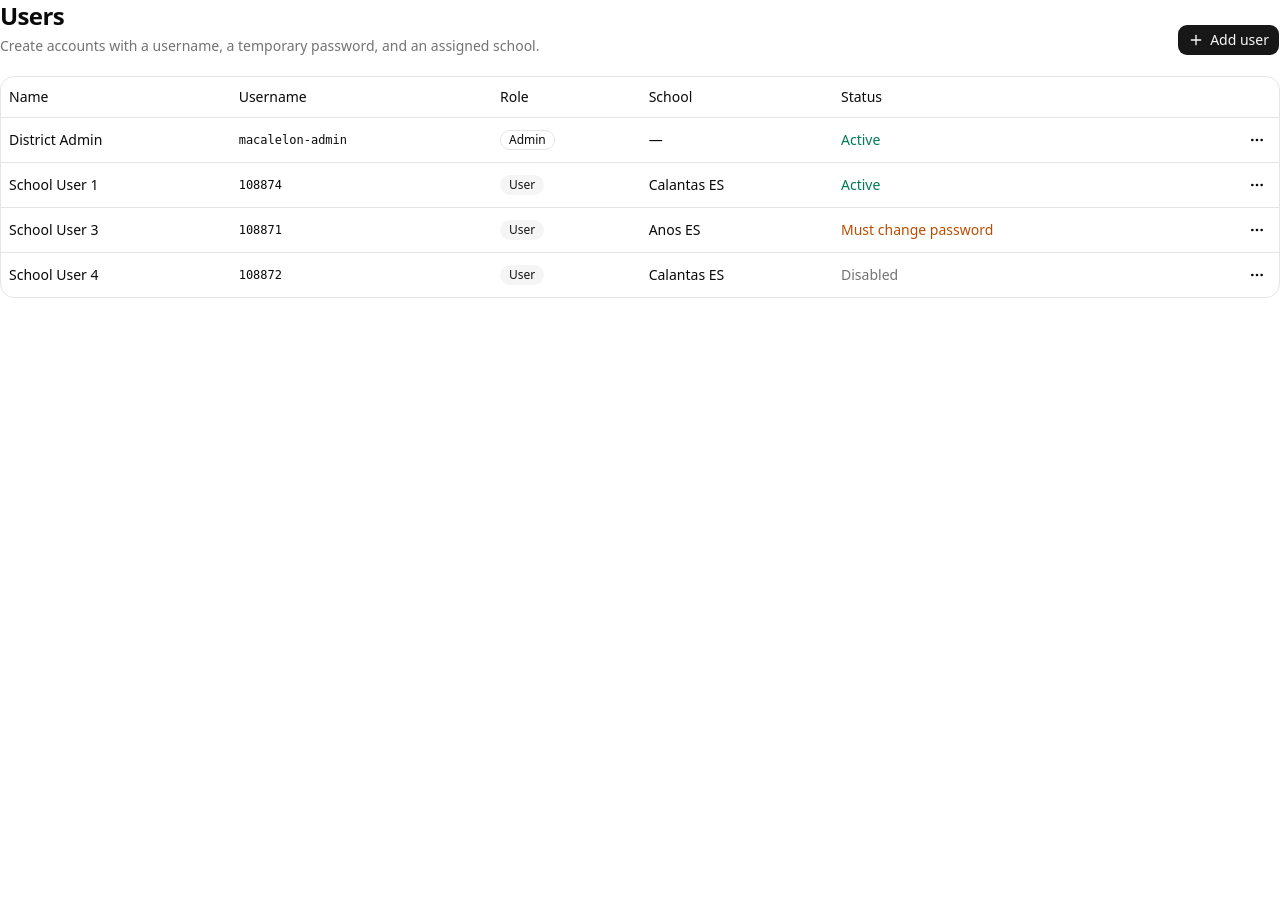
Scenario: UsersPage › resets a password after confirming and shows the new temporary password
Press the mouse on the button named "Actions for 108874" at (1257, 184), box x1=1243 y1=170 x2=1271 y2=198
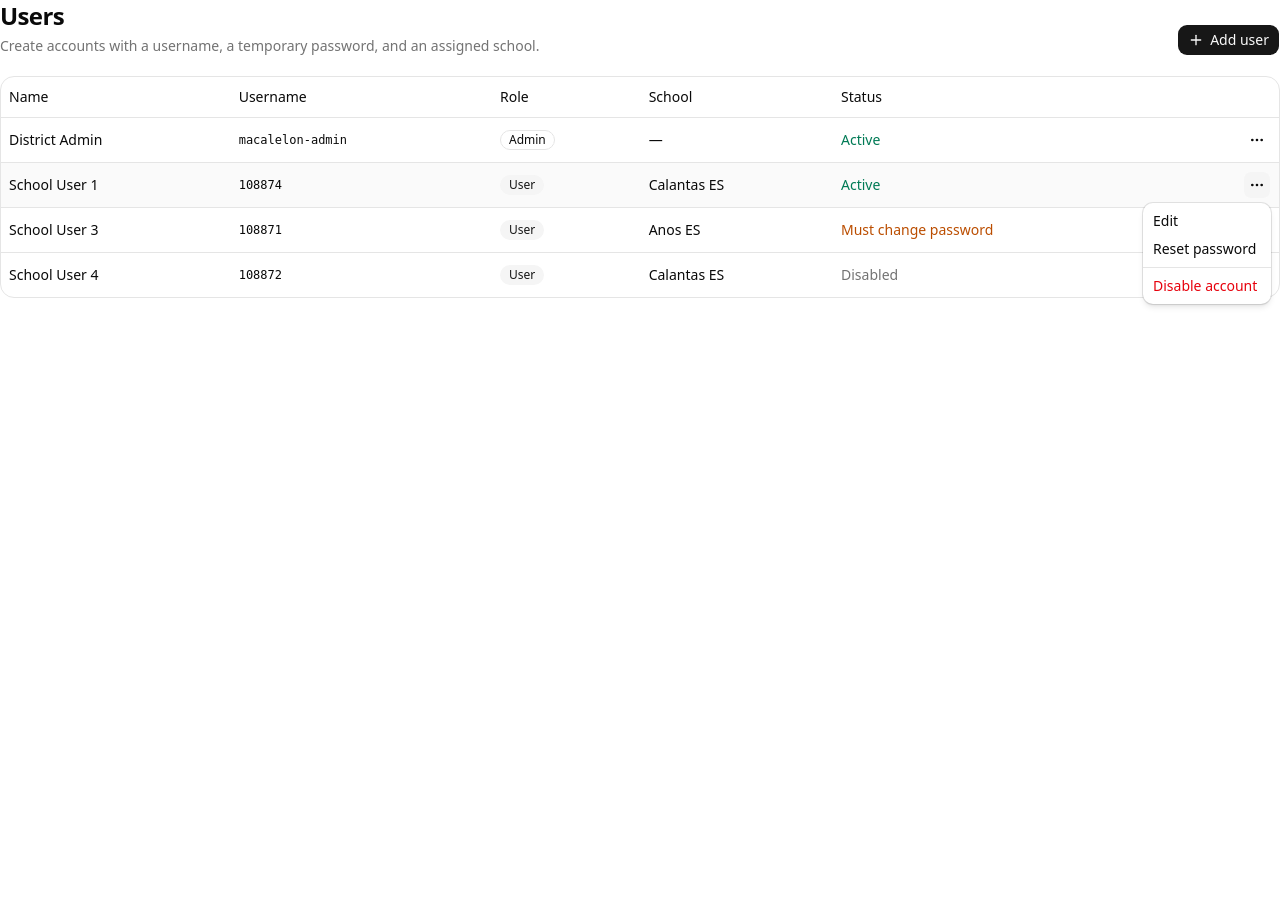
Click the menu item "Reset password" at (1207, 249), box x1=1147 y1=235 x2=1267 y2=263
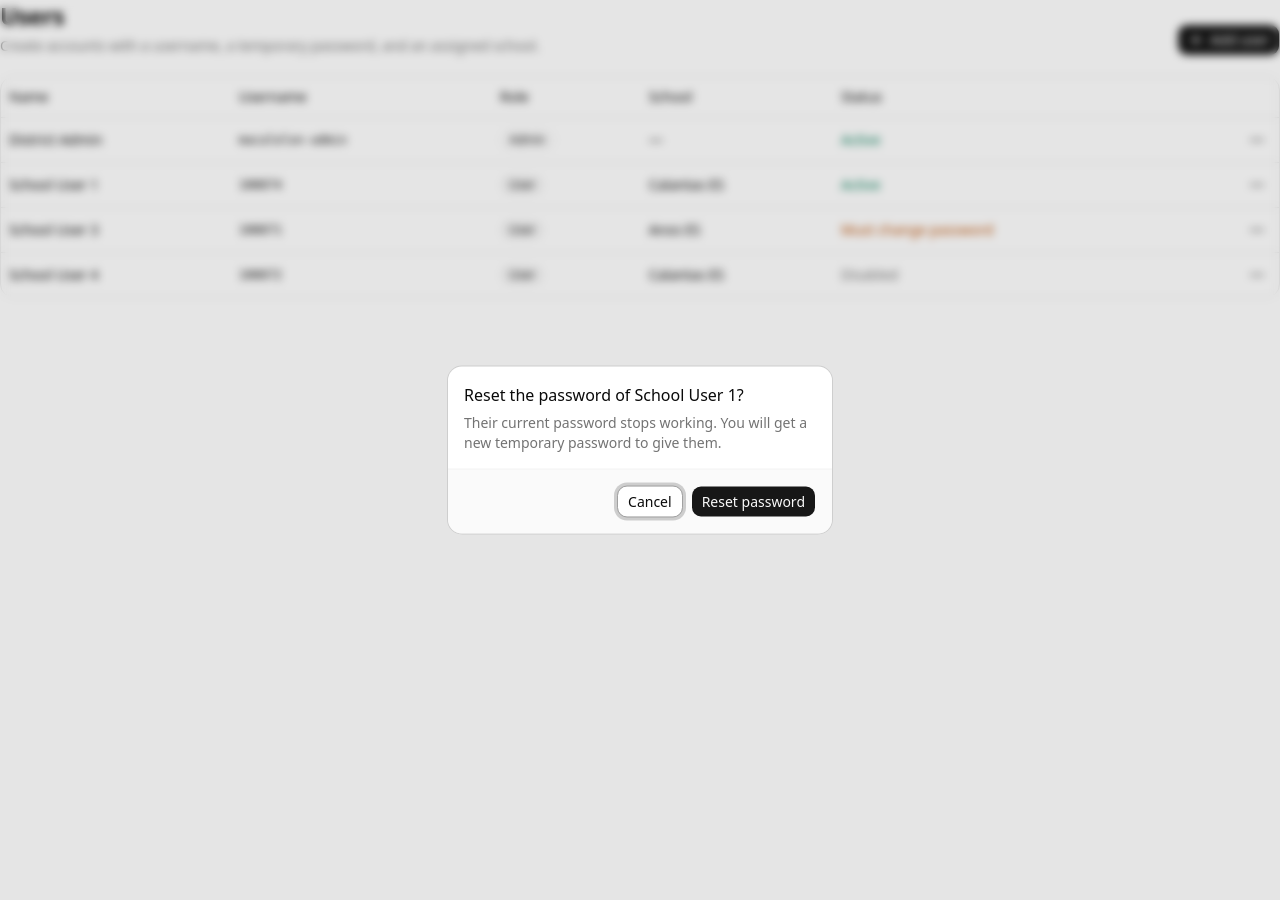
Click the button "Reset password" at (753, 502), box x1=691 y1=486 x2=816 y2=518
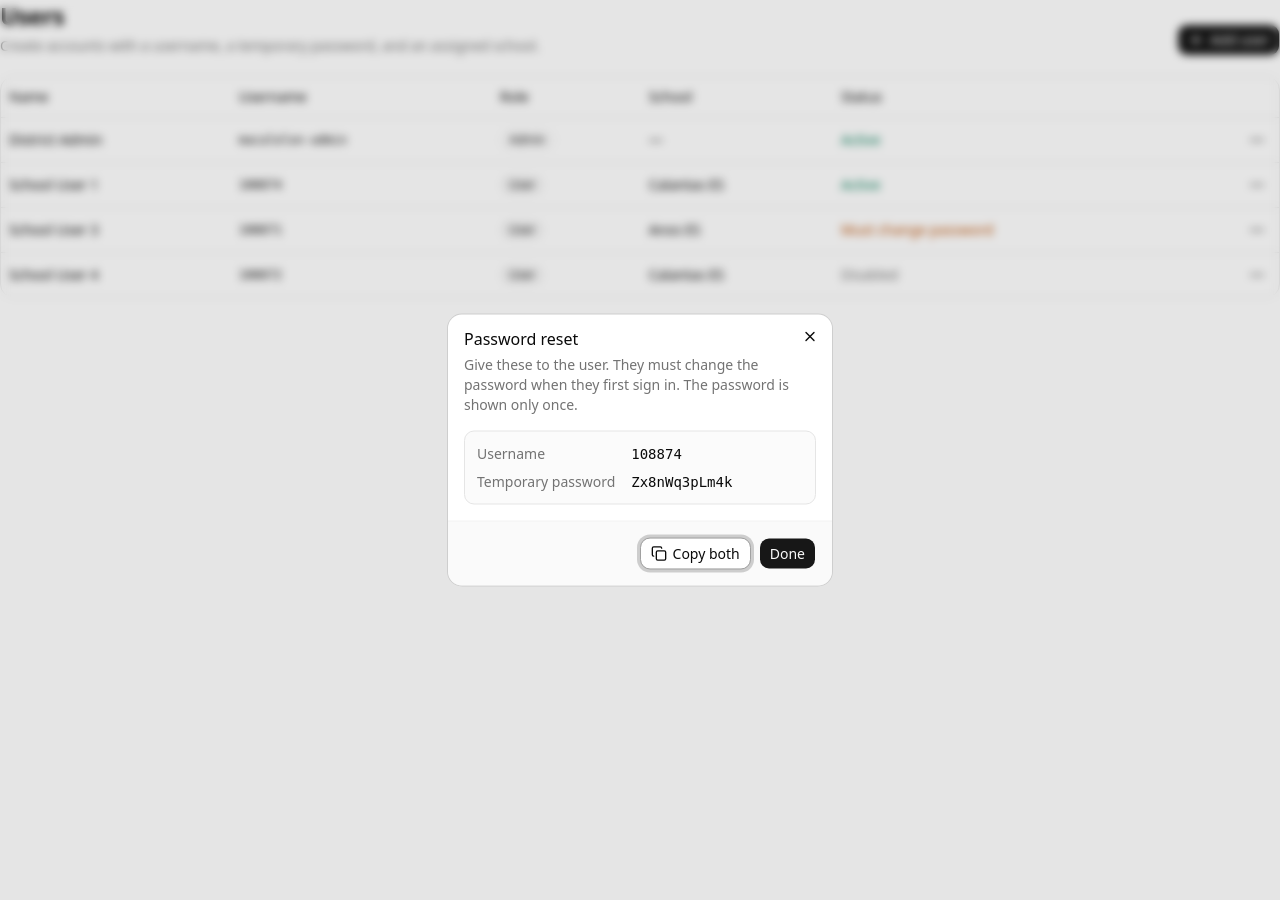
Check: the text "Zx8nWq3pLm4k" is shown, box x1=631 y1=474 x2=732 y2=490
